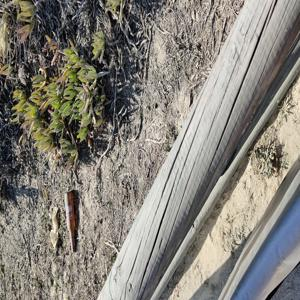glass: (65, 186, 88, 255)
plastic: (44, 205, 62, 251)
